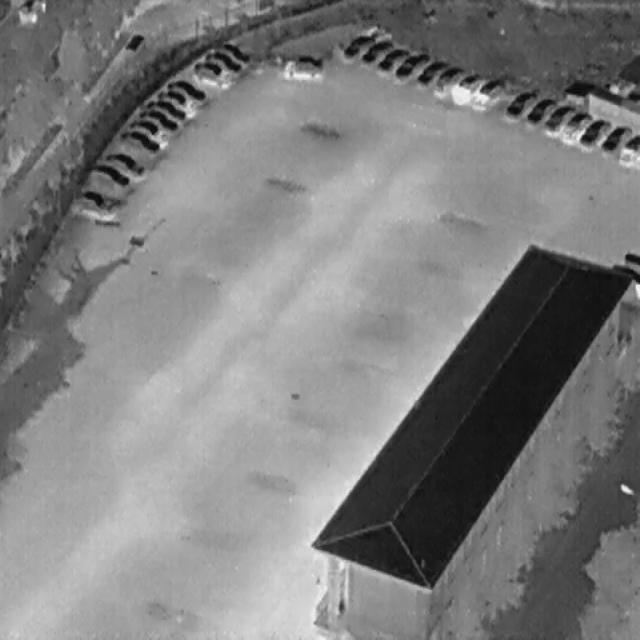Car: (114, 118, 161, 154), (72, 185, 117, 220), (85, 155, 130, 190), (102, 142, 147, 176), (190, 54, 232, 90), (576, 108, 610, 152), (392, 43, 427, 85), (373, 36, 407, 78), (449, 63, 483, 104), (504, 79, 537, 121), (598, 116, 630, 158), (471, 69, 504, 109), (415, 50, 447, 90), (137, 101, 179, 131), (147, 92, 190, 121), (559, 101, 590, 141), (166, 72, 207, 102), (126, 110, 165, 141), (359, 30, 392, 66), (204, 44, 243, 74), (543, 95, 573, 134), (525, 88, 555, 126), (433, 58, 461, 92), (283, 56, 324, 79), (155, 81, 188, 109), (342, 28, 368, 60), (222, 38, 249, 62), (619, 133, 638, 165), (124, 26, 144, 54)
